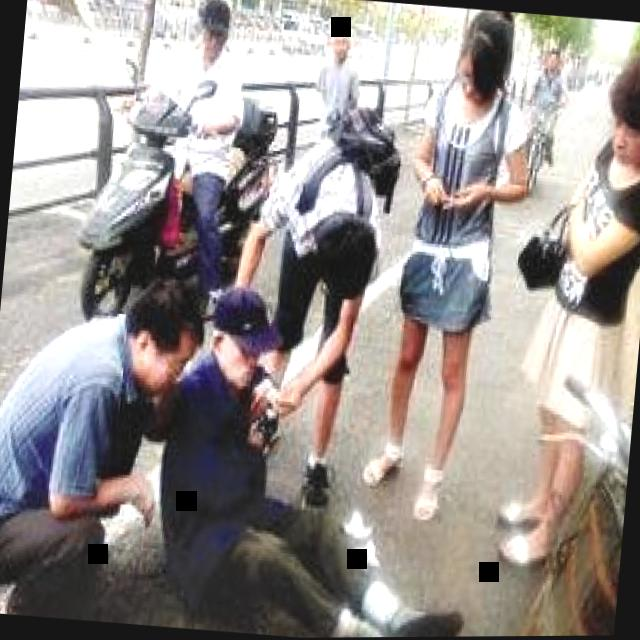Fall-Detected: (125, 254, 513, 639)
